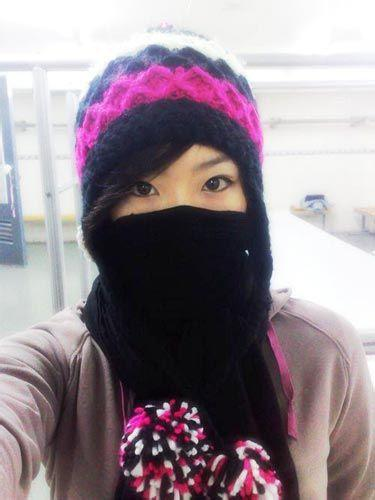OK: (92, 150, 249, 307)
